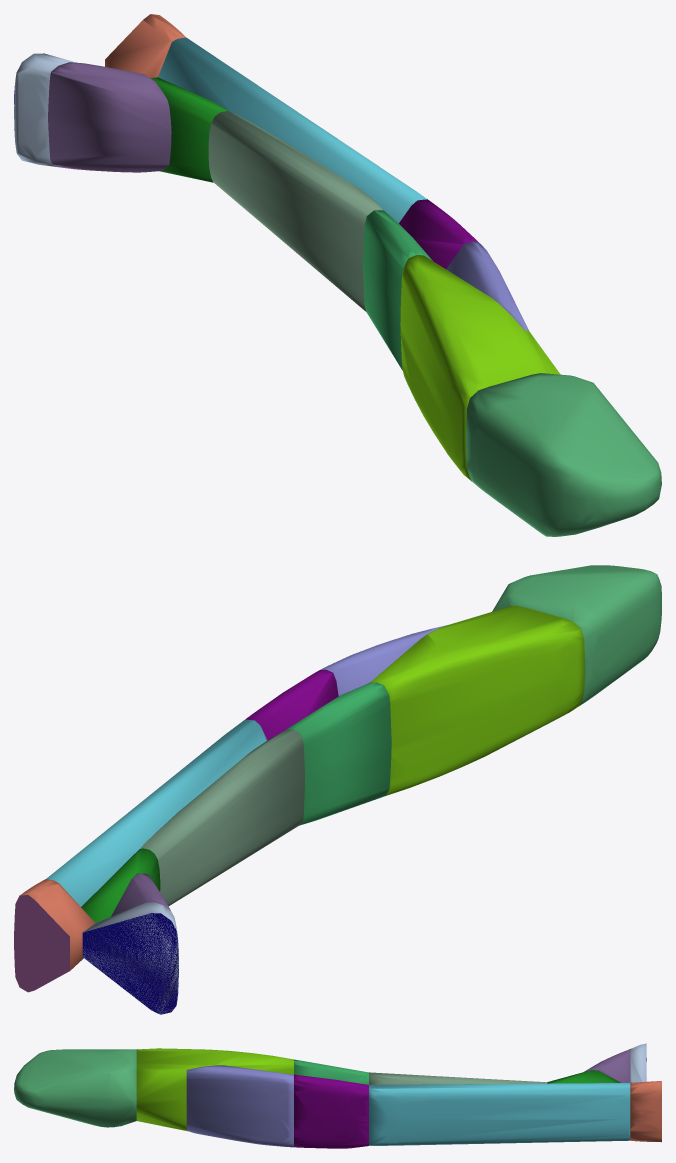
File: lower_leg_collision.obj
3 views of the same model, one above another, from view 1: azimuth 30°, elevation 25°; view 2: azimuth 150°, elevation 25°; view 3: azimuth 270°, elevation 25° (orthographic). The views are drawn at different scales.
Bounding box in the file's own units: 0.0701 × 0.0483 × 0.3823.
